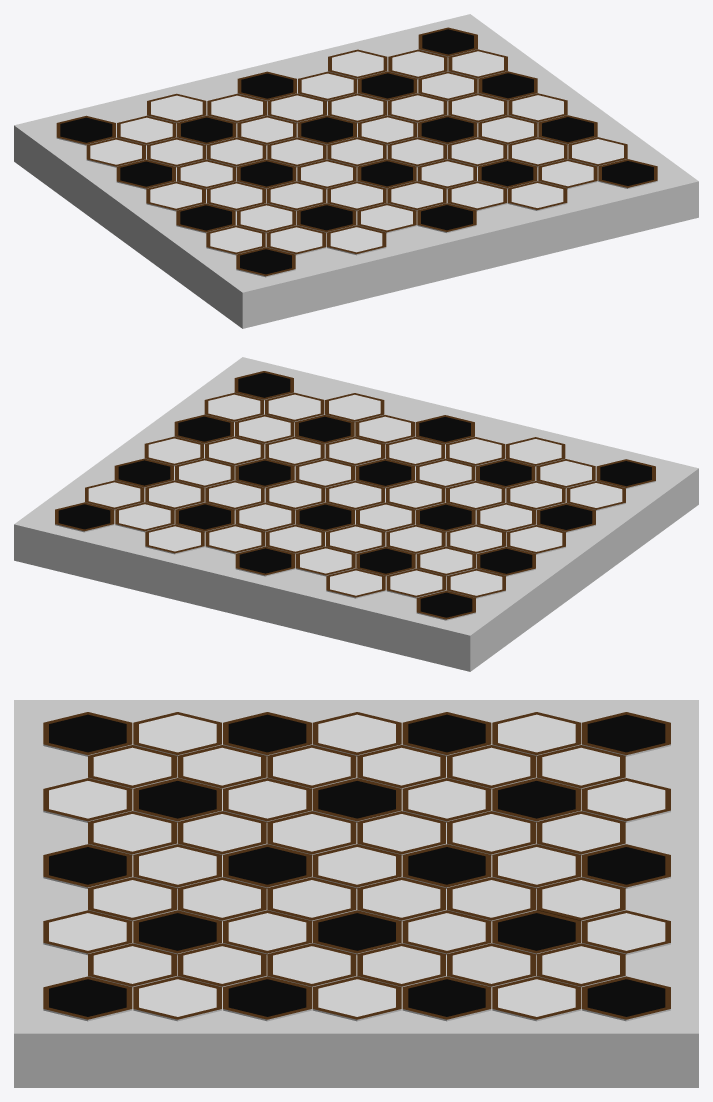
Rendered from board 1.fbx.
The picture shows the model from 3 angles, top to bottom: view 1: azimuth 30°, elevation 25°; view 2: azimuth 150°, elevation 25°; view 3: azimuth 270°, elevation 25°; orthographic projection. The views are drawn at different scales.
Parts seen in each view (by area): view 1: board; view 2: board; view 3: board.
Boxes of the visible parts, box(x1,y1,x2,y2) form: board: box(14, 14, 698, 328); board: box(14, 357, 698, 671); board: box(14, 700, 698, 1087).
Bounding box in the file's own units: 2268 × 204 × 2613.
